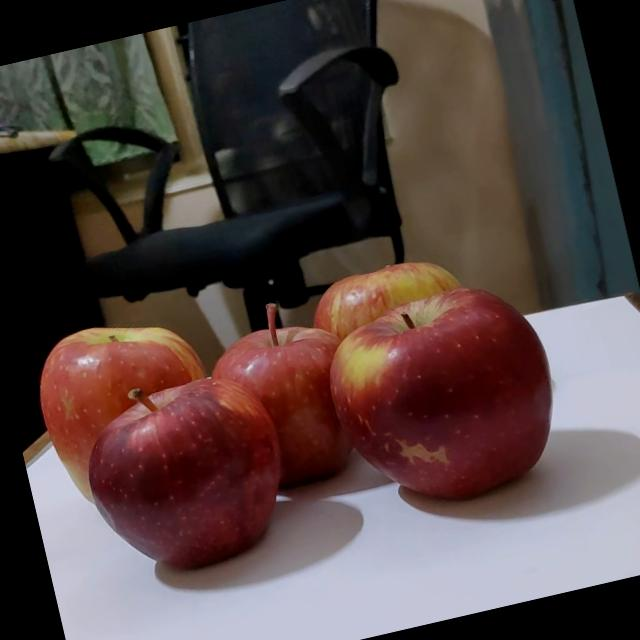apple: (289, 264, 560, 522), (48, 360, 279, 582), (182, 279, 372, 495), (16, 296, 216, 486), (290, 236, 486, 396)
